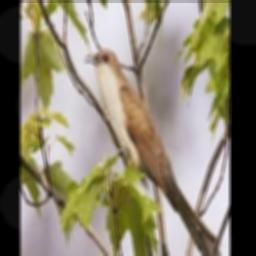Cuckoo: (83, 48, 222, 256)
